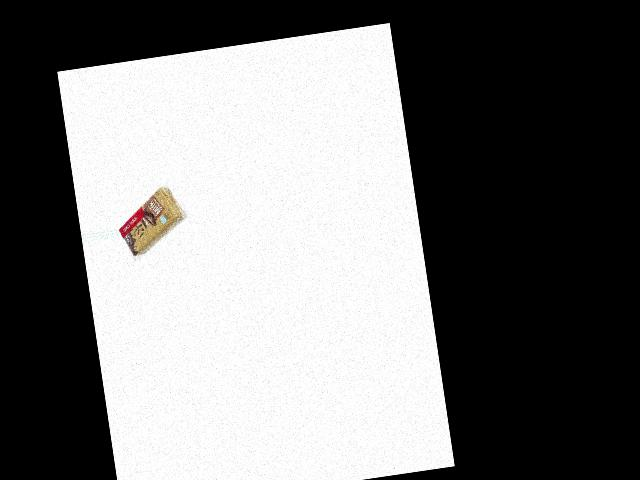chocolate: (113, 176, 190, 258)
